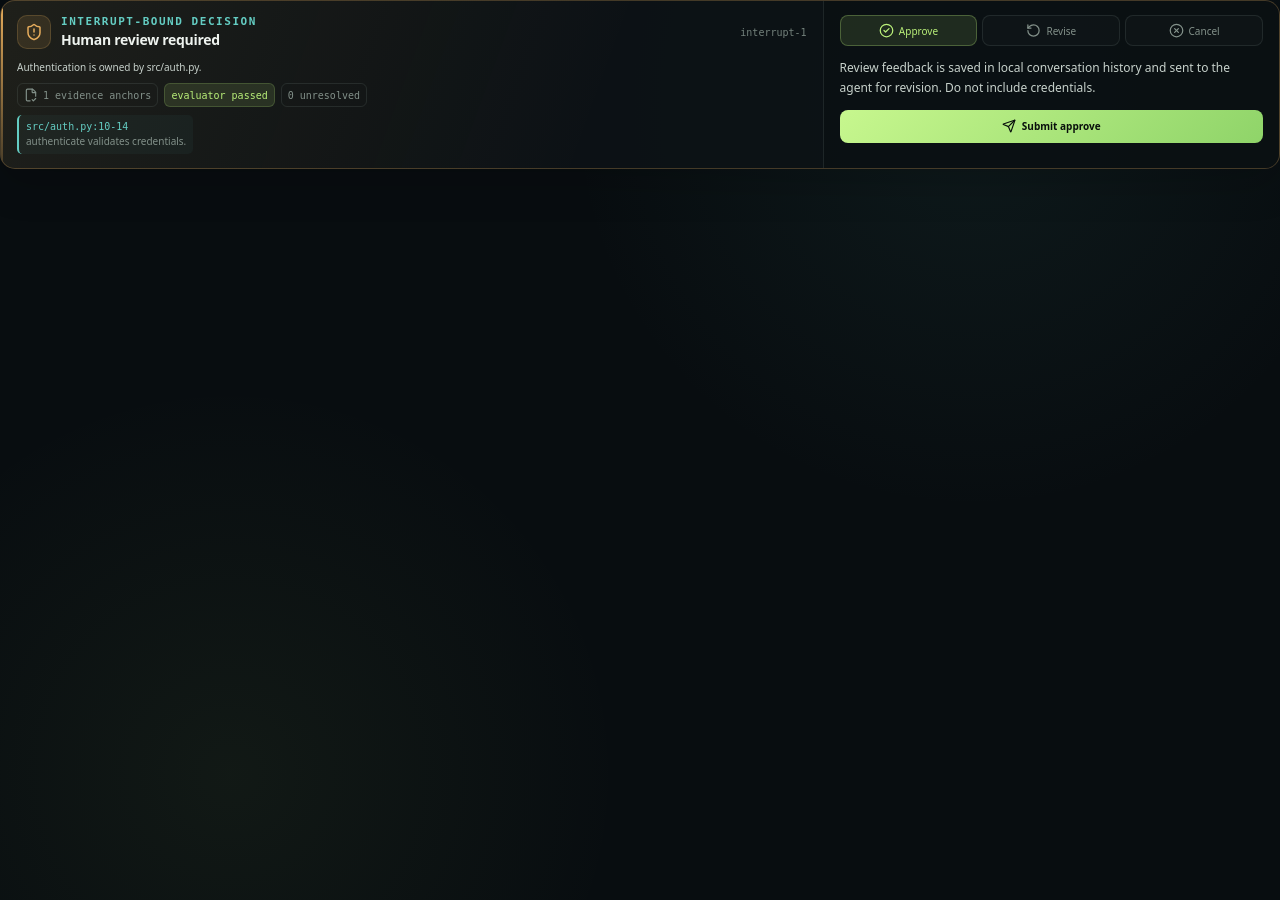
Test: explicit mutation controls › never auto-retries and manually replays the exact Human-review request
Click the button "Submit approve". click: (1051, 126)
box: [840, 110, 1263, 143]
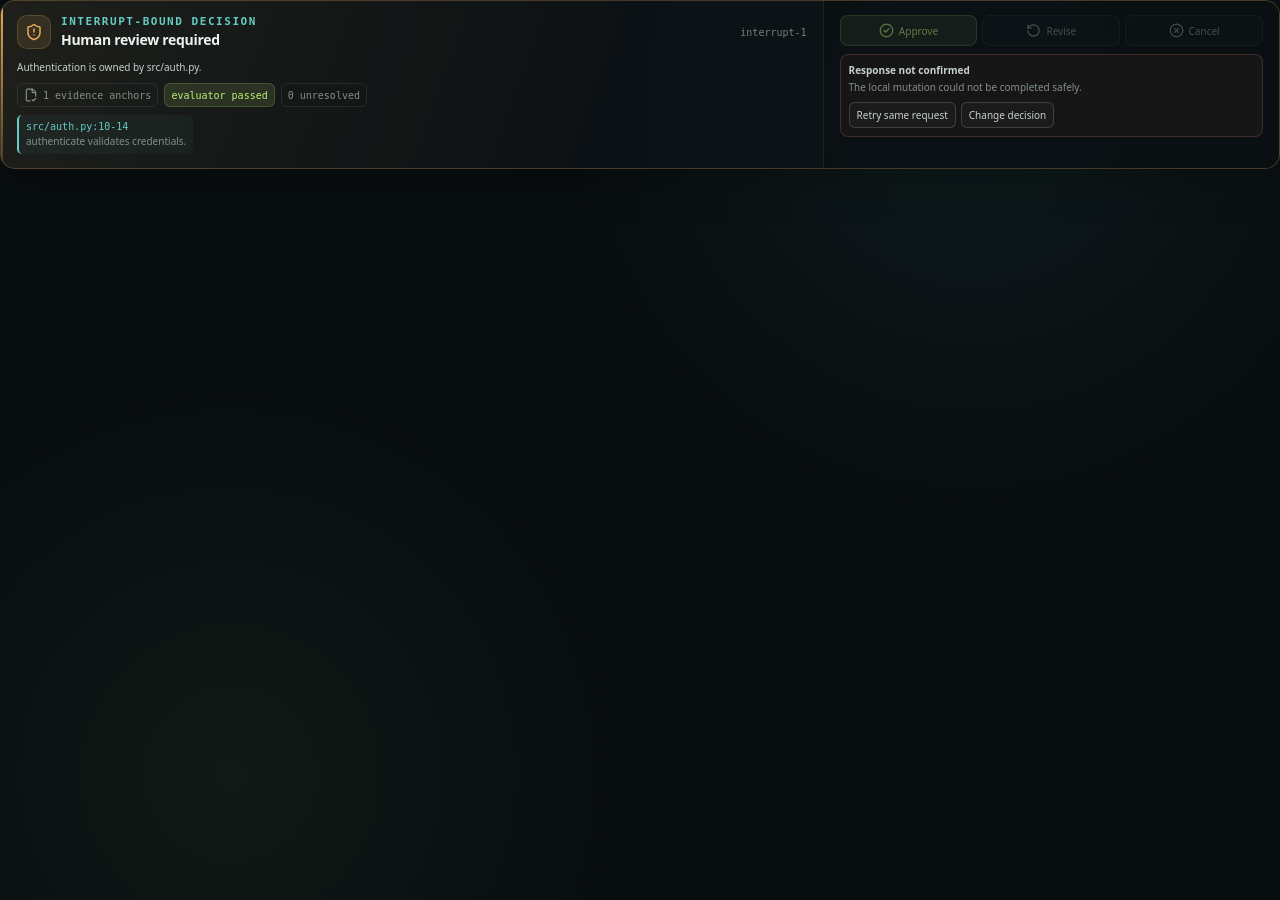
expect the text "Response not confirmed" is shown: met, box [849, 63, 970, 77]
Click the button "Retry same request". click: (902, 114)
box: [849, 102, 956, 128]
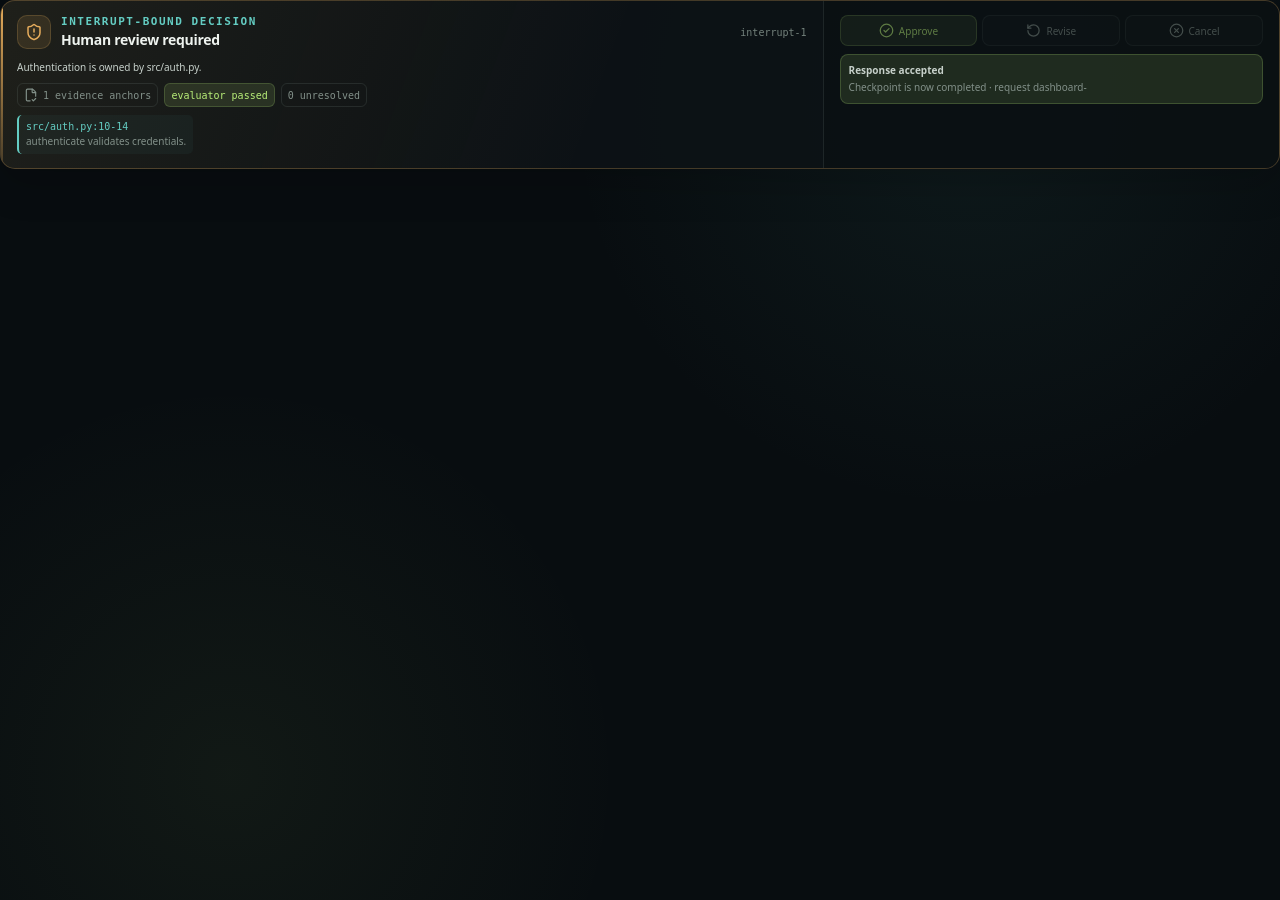
expect the text "Response accepted" is shown: met, box [849, 63, 944, 77]
